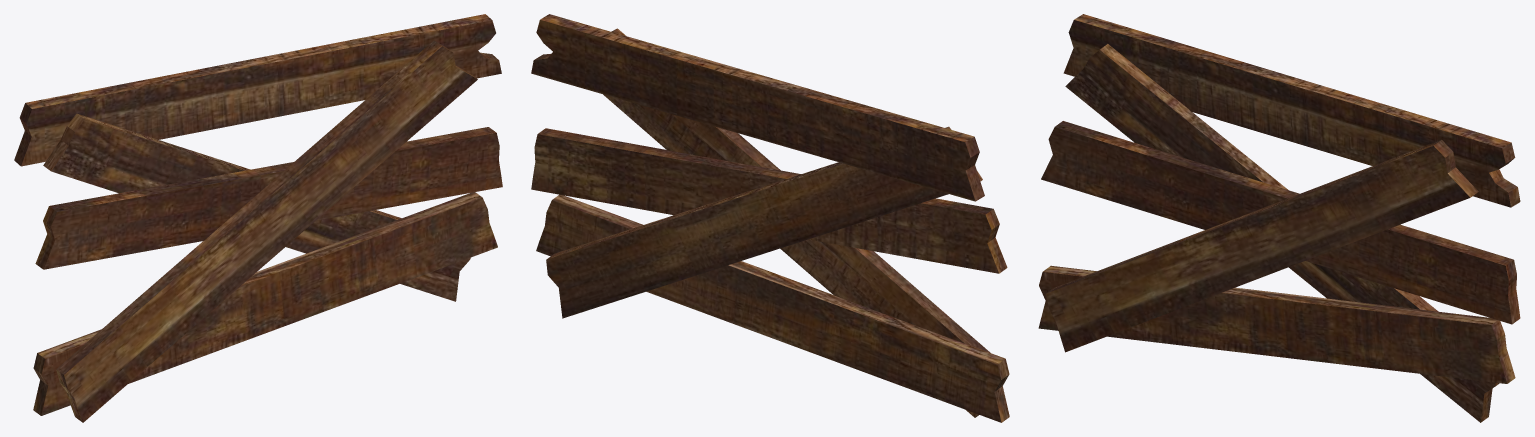
Rendered from barricada.fbx.
The picture shows the model from 3 angles, left to right: view 1: azimuth 30°, elevation 25°; view 2: azimuth 150°, elevation 25°; view 3: azimuth 330°, elevation 25°; orthographic projection. The views are drawn at different scales.
Visible parts, largest first — view 1: Cube.003; view 2: Cube.003; view 3: Cube.003.
Boxes of the visible parts, x1=… form: Cube.003: x1=14, y1=14, x2=502, y2=422; Cube.003: x1=531, y1=14, x2=1009, y2=422; Cube.003: x1=1038, y1=14, x2=1520, y2=422.
Bounding box in the file's own units: 233 × 144 × 33.57.
